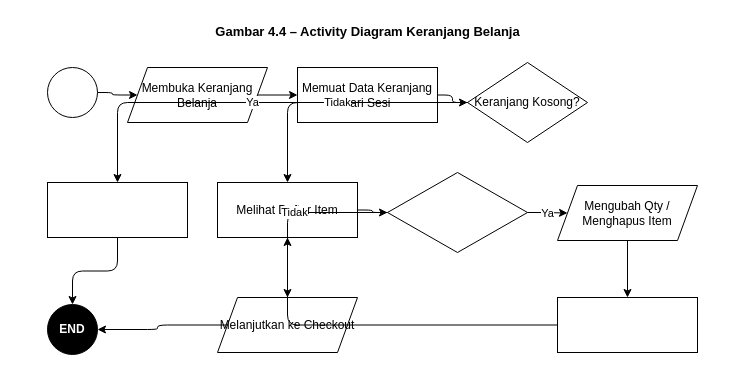
Image size: 734x372. Some labels were removed from this diagram. Here are the shapes that lost their labels. From the top down, the centre of each, then its label:
At (x=72, y=92): "START".
At (x=117, y=210): "Melihat Pesan Keranjang Kosong".
At (x=457, y=212): "Mengubah Jumlah atau Menghapus?".
At (x=627, y=324): "Memperbarui Sesi dan Hitung Ulang Total".
